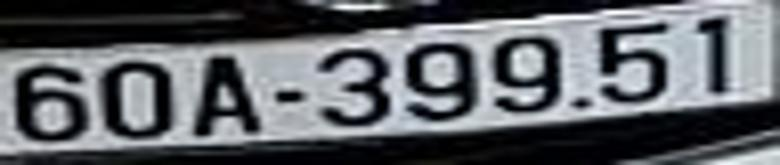-: (272, 90, 303, 102)
.: (573, 100, 588, 107)
0: (104, 64, 173, 138)
1: (700, 19, 726, 93)
3: (318, 49, 386, 125)
5: (601, 27, 669, 103)
6: (16, 69, 83, 142)
9: (492, 37, 562, 113), (406, 46, 477, 119)
A: (195, 56, 264, 135)
